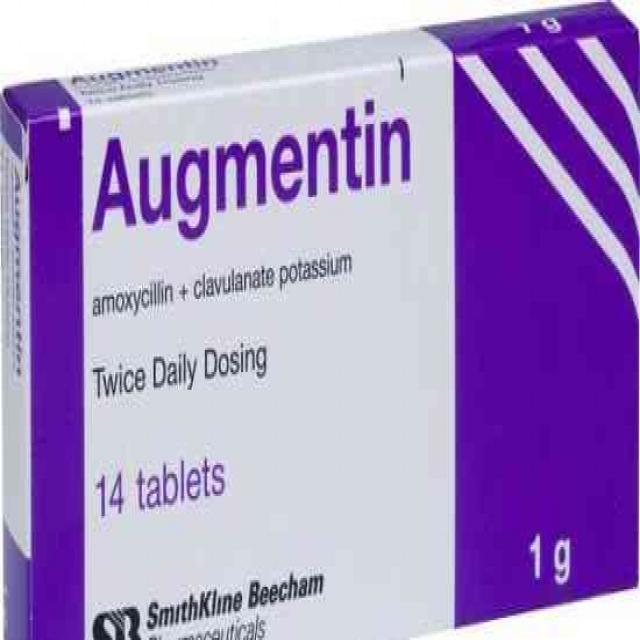drug-name: (91, 92, 423, 242)
